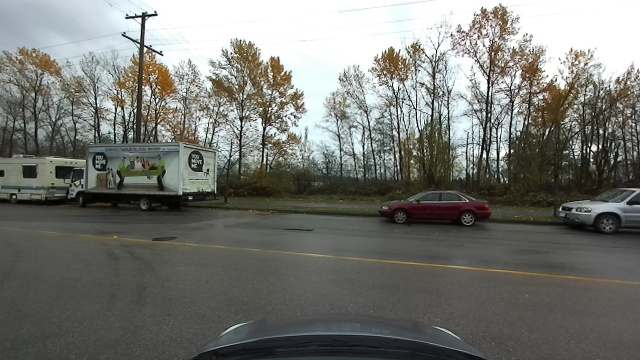car: (67, 144, 219, 213), (549, 171, 640, 236), (375, 185, 494, 232), (1, 150, 64, 206)
